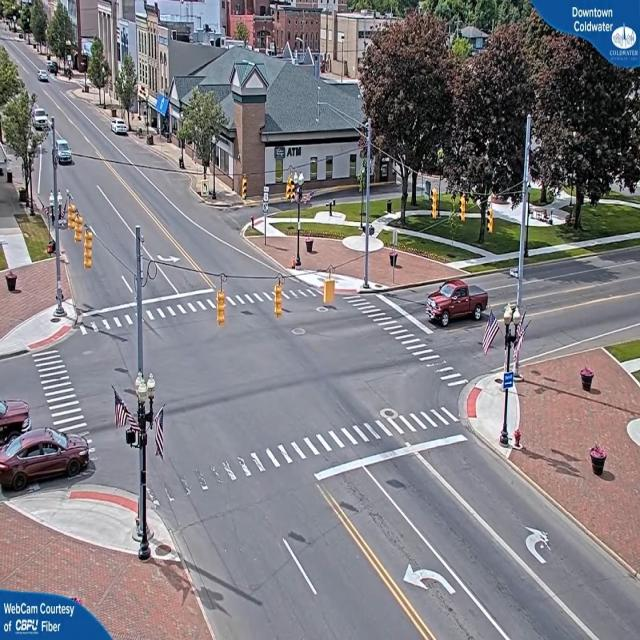car: (0, 428, 90, 492), (427, 278, 488, 326), (54, 139, 73, 167), (112, 120, 131, 138), (40, 68, 51, 82), (511, 268, 521, 280)
